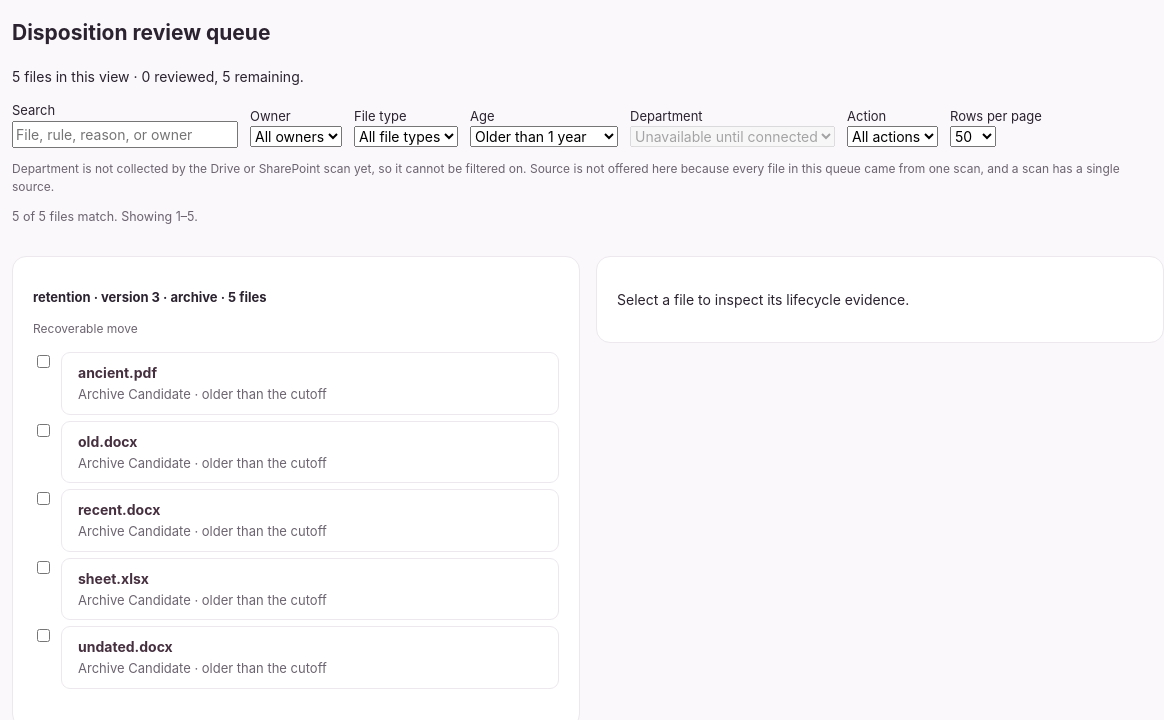
Test: age › keeps only files at least that old
This screenshot has width=1164, height=720.
Select "Older than 1 year" in the dropdown labelled "Age". click: (544, 137)
box: [470, 126, 618, 147]
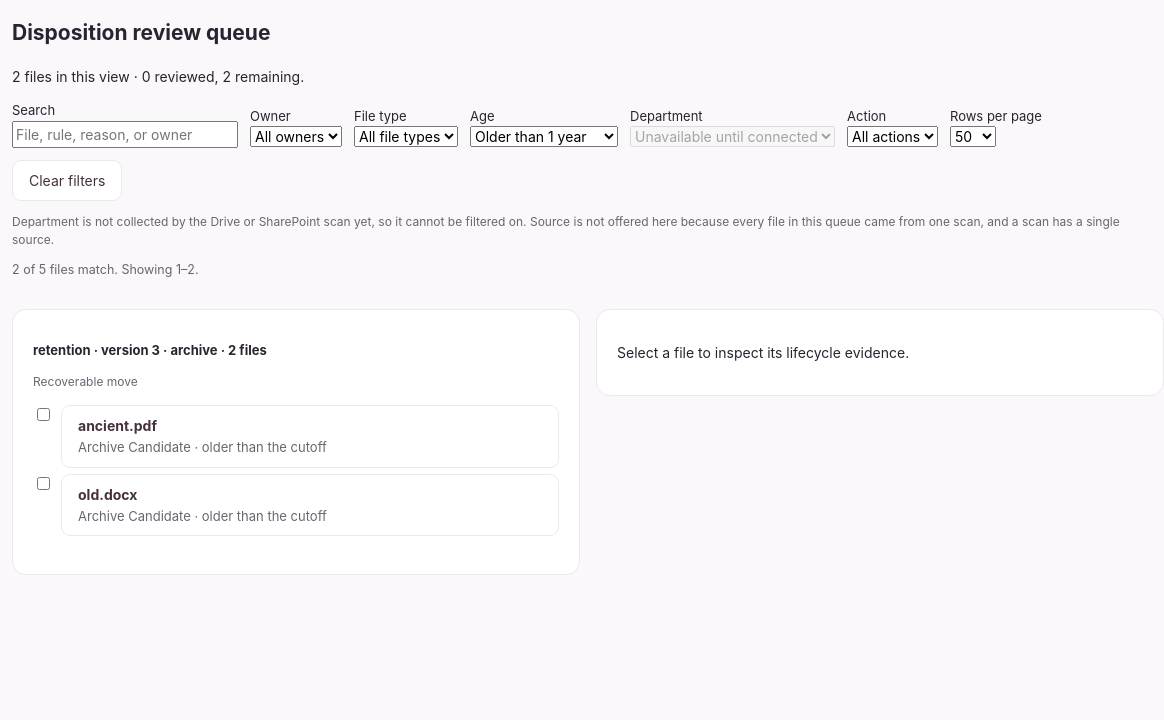
Check: the text "old.docx" is shown, box [78, 486, 137, 503]
Check: the text "recent.docx" is gone
Check: the text "sheet.xlsx" is gone
